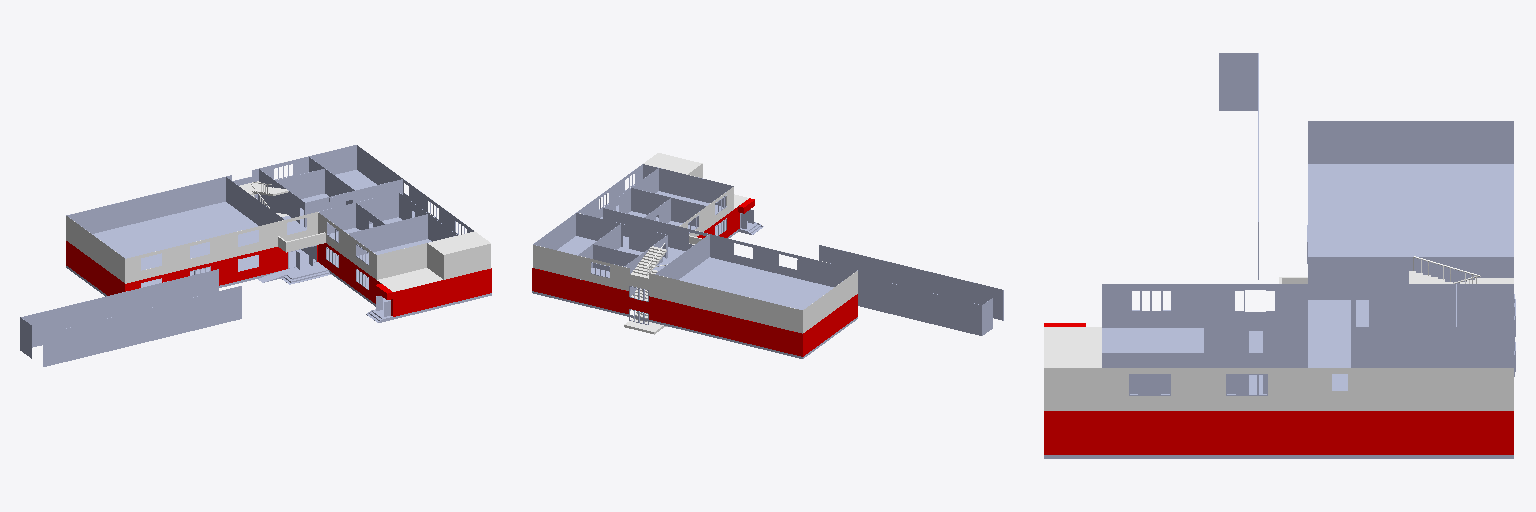
--- Facts derived from the render (not from the file) ---
3 views of the same robot in one strip: view 1: azimuth 30°, elevation 25°; view 2: azimuth 150°, elevation 25°; view 3: azimuth 270°, elevation 25° (orthographic).
Model kdarpa_world with 33 links and 32 joints (32 fixed), rooted at ground_link, posed all joints at 0.
Links seen in each view (by area): view 1: second_in_Link, second_out_Link, ground_link, outdoor_right_wall, outdoor_left_wall, base_Link, ground_in_Link; view 2: second_in_Link, second_out_Link, ground_link, outdoor_left_wall, outdoor_right_wall, base_Link; view 3: second_in_Link, ground_link, second_out_Link, outdoor_left_wall, base_Link, stair_3_link.
Link boxes in pixels (left/top/right/bottom): second_in_Link: left=66, top=145, right=473, bottom=270; second_out_Link: left=66, top=147, right=490, bottom=291; ground_link: left=66, top=241, right=491, bottom=316; outdoor_right_wall: left=43, top=286, right=241, bottom=366; outdoor_left_wall: left=20, top=269, right=218, bottom=358; base_Link: left=66, top=262, right=491, bottom=322; ground_in_Link: left=141, top=194, right=390, bottom=309; second_in_Link: left=533, top=164, right=857, bottom=309; second_out_Link: left=533, top=153, right=857, bottom=333; ground_link: left=532, top=198, right=857, bottom=356; outdoor_left_wall: left=797, top=260, right=992, bottom=335; outdoor_right_wall: left=819, top=245, right=1003, bottom=320; base_Link: left=532, top=222, right=857, bottom=358; second_in_Link: left=1102, top=121, right=1513, bottom=394; ground_link: left=1044, top=323, right=1513, bottom=454; second_out_Link: left=1044, top=277, right=1513, bottom=410; outdoor_left_wall: left=1219, top=53, right=1258, bottom=279; base_Link: left=1044, top=455, right=1513, bottom=458; stair_3_link: left=1409, top=271, right=1513, bottom=283.
Bounding box of the posed robot: 51.66 × 29.51 × 10.05 m (x, y, z).
24 mesh visuals loaded from 33 distinct referenced files (24 binary STL); not drawn: 9 (reference not matched to a file when rendering).

robot.urdf — kdarpa_world:
<?xml version="1.0" encoding="utf-8"?>
<!-- This URDF was automatically created by SolidWorks to URDF Exporter! Originally created by Stephen Brawner ([email redacted]) 
     Commit Version: 1.5.1-0-g916b5db  Build Version: 1.5.7152.31018
     For more information, please see http://wiki.ros.org/sw_urdf_exporter -->
<robot
  name="kdarpa_world">
  <link
    name="ground_link">
    <inertial>
      <origin
        xyz="-13.932 18.075 30.466"
        rpy="0 0 0" />
      <mass
        value="5172.5" />
      <inertia
        ixx="701310"
        ixy="-3221.3"
        ixz="-227660"
        iyy="1331400"
        iyz="-20392"
        izz="638530" />
    </inertial>
    <visual>
      <origin
        xyz="0 0 0"
        rpy="0 0 0" />
      <geometry>
        <mesh
          filename="package://kdarpa_world/meshes/ground_link.STL" />
      </geometry>
      <material
        name="brick">
        <color
          rgba="1 0 0 1" />
        <texture
          filename="package://kdarpa_world/textures/TexturesCom_Wall_BrickRough1_2x2_1K_albedo.tif" />
      </material>
    </visual>
    <collision>
      <origin
        xyz="0 0 0"
        rpy="0 0 0" />
      <geometry>
        <mesh
          filename="package://kdarpa_world/meshes/ground_link.STL" />
      </geometry>
    </collision>
  </link>
  <link
    name="ground_in_Link">
    <inertial>
      <origin
        xyz="21.815 0.60401 -1.9772"
        rpy="0 0 0" />
      <mass
        value="10829" />
      <inertia
        ixx="825040"
        ixy="506.66"
        ixz="-437810"
        iyy="2203700"
        iyz="2738.4"
        izz="1396800" />
    </inertial>
    <visual>
      <origin
        xyz="0 0 0"
        rpy="0 0 0" />
      <geometry>
        <mesh
          filename="package://kdarpa_world/meshes/ground_in_Link.STL" />
      </geometry>
      <material
        name="">
        <color
          rgba="0.79216 0.81961 0.93333 1" />
        <texture
          filename="package://kdarpa_world/textures/TexturesCom_Wall_Plaster3_3x3_1K_albedo.tif" />
      </material>
    </visual>
    <collision>
      <origin
        xyz="0 0 0"
        rpy="0 0 0" />
      <geometry>
        <mesh
          filename="package://kdarpa_world/meshes/ground_in_Link.STL" />
      </geometry>
    </collision>
  </link>
  <joint
    name="ground_joint"
    type="fixed">
    <origin
      xyz="-36.18 -26.871 16.246"
      rpy="1.5708 0 0" />
    <parent
      link="ground_link" />
    <child
      link="ground_in_Link" />
    <axis
      xyz="0 0 0" />
  </joint>
  <link
    name="window_1_Link">
    <inertial>
      <origin
        xyz="7.1054E-15 0 0"
        rpy="0 0 0" />
      <mass
        value="58.464" />
      <inertia
        ixx="16.058"
        ixy="-4.7705E-15"
        ixz="2.2263E-14"
        iyy="35.047"
        iyz="-2.4395E-16"
        izz="51.023" />
    </inertial>
    <visual>
      <origin
        xyz="0 0 0"
        rpy="0 0 0" />
      <geometry>
        <mesh
          filename="package://kdarpa_world/meshes/window_1_Link.STL" />
      </geometry>
      <material
        name="">
        <color
          rgba="0.79216 0.81961 0.93333 1" />
        <texture
          filename="package://kdarpa_world/textures/TexturesCom_Tape0020_1_S.jpg" />
      </material>
    </visual>
    <collision>
      <origin
        xyz="0 0 0"
        rpy="0 0 0" />
      <geometry>
        <mesh
          filename="package://kdarpa_world/meshes/window_1_Link.STL" />
      </geometry>
    </collision>
  </link>
  <joint
    name="window_1_joint"
    type="fixed">
    <origin
      xyz="3.29 1.85 0.04"
      rpy="0 0 0" />
    <parent
      link="ground_in_Link" />
    <child
      link="window_1_Link" />
    <axis
      xyz="0 0 0" />
  </joint>
  <link
    name="window_2_Link">
    <inertial>
      <origin
        xyz="3.5527E-15 0 0"
        rpy="0 0 0" />
      <mass
        value="58.464" />
      <inertia
        ixx="16.058"
        ixy="-4.3368E-16"
        ixz="-3.998E-15"
        iyy="35.047"
        iyz="-4.0658E-16"
        izz="51.023" />
    </inertial>
    <visual>
      <origin
        xyz="0 0 0"
        rpy="0 0 0" />
      <geometry>
        <mesh
          filename="package://kdarpa_world/meshes/window_2_Link.STL" />
      </geometry>
      <material
        name="">
        <color
          rgba="0.79216 0.81961 0.93333 1" />
        <texture
          filename="package://kdarpa_world/textures/TexturesCom_Tape0020_1_S.jpg" />
      </material>
    </visual>
    <collision>
      <origin
        xyz="0 0 0"
        rpy="0 0 0" />
      <geometry>
        <mesh
          filename="package://kdarpa_world/meshes/window_2_Link.STL" />
      </geometry>
    </collision>
  </link>
  <joint
    name="window_2_joint"
    type="fixed">
    <origin
      xyz="9.39 1.85 0.04"
      rpy="0 0 0" />
    <parent
      link="ground_in_Link" />
    <child
      link="window_2_Link" />
    <axis
      xyz="0 0 0" />
  </joint>
  <link
    name="window_3_Link">
    <inertial>
      <origin
        xyz="0 0 0"
        rpy="0 0 0" />
      <mass
        value="58.464" />
      <inertia
        ixx="16.058"
        ixy="-3.1292E-16"
        ixz="-8.5354E-15"
        iyy="35.047"
        iyz="-4.5087E-16"
        izz="51.023" />
    </inertial>
    <visual>
      <origin
        xyz="0 0 0"
        rpy="0 0 0" />
      <geometry>
        <mesh
          filename="package://kdarpa_world/meshes/window_3_Link.STL" />
      </geometry>
      <material
        name="">
        <color
          rgba="0.79216 0.81961 0.93333 1" />
        <texture
          filename="package://kdarpa_world/textures/TexturesCom_Tape0020_1_S.jpg" />
      </material>
    </visual>
    <collision>
      <origin
        xyz="0 0 0"
        rpy="0 0 0" />
      <geometry>
        <mesh
          filename="package://kdarpa_world/meshes/window_3_Link.STL" />
      </geometry>
    </collision>
  </link>
  <joint
    name="window_3_joint"
    type="fixed">
    <origin
      xyz="15.49 1.85 0.04"
      rpy="0 0 0" />
    <parent
      link="ground_in_Link" />
    <child
      link="window_3_Link" />
    <axis
      xyz="0 0 0" />
  </joint>
  <link
    name="indoor_fence_Link">
    <inertial>
      <origin
        xyz="0.0058815 -1.8178E-05 -4.9543E-06"
        rpy="0 0 0" />
      <mass
        value="23.724" />
      <inertia
        ixx="4.7495"
        ixy="-0.00032267"
        ixz="5.6344E-05"
        iyy="17.883"
        iyz="-2.375E-06"
        izz="22.626" />
    </inertial>
    <visual>
      <origin
        xyz="0 0 0"
        rpy="0 0 0" />
      <geometry>
        <mesh
          filename="package://kdarpa_world/meshes/indoor_fence_Link.STL" />
      </geometry>
      <material
        name="">
        <color
          rgba="0.79216 0.81961 0.93333 1" />
        <texture
          filename="package://kdarpa_world/textures/naver_com_20110517_210859.jpg" />
      </material>
    </visual>
    <collision>
      <origin
        xyz="0 0 0"
        rpy="0 0 0" />
      <geometry>
        <mesh
          filename="package://kdarpa_world/meshes/indoor_fence_Link.STL" />
      </geometry>
    </collision>
  </link>
  <joint
    name="indoor_fence_joint"
    type="fixed">
    <origin
      xyz="21.32 0.759999999999998 -3.61"
      rpy="0 0 0" />
    <parent
      link="ground_in_Link" />
    <child
      link="indoor_fence_Link" />
    <axis
      xyz="0 0 0" />
  </joint>
  <link
    name="window_4_Link">
    <inertial>
      <origin
        xyz="3.5527E-15 -3.5527E-15 -1.7764E-15"
        rpy="0 0 0" />
      <mass
        value="58.464" />
      <inertia
        ixx="16.058"
        ixy="3.9031E-15"
        ixz="-2.8393E-15"
        iyy="35.047"
        iyz="-2.0329E-17"
        izz="51.023" />
    </inertial>
    <visual>
      <origin
        xyz="0 0 0"
        rpy="0 0 0" />
      <geometry>
        <mesh
          filename="package://kdarpa_world/meshes/window_4_Link.STL" />
      </geometry>
      <material
        name="">
        <color
          rgba="0.79216 0.81961 0.93333 1" />
        <texture
          filename="package://kdarpa_world/textures/TexturesCom_Tape0020_1_S.jpg" />
      </material>
    </visual>
    <collision>
      <origin
        xyz="0 0 0"
        rpy="0 0 0" />
      <geometry>
        <mesh
          filename="package://kdarpa_world/meshes/window_4_Link.STL" />
      </geometry>
    </collision>
  </link>
  <joint
    name="window_4_joint"
    type="fixed">
    <origin
      xyz="24.16 1.85 3.31000000000001"
      rpy="0 -1.5707963267949 0" />
    <parent
      link="ground_in_Link" />
    <child
      link="window_4_Link" />
    <axis
      xyz="0 0 0" />
  </joint>
  <link
    name="window_5_Link">
    <inertial>
      <origin
        xyz="0 -3.5527E-15 0"
        rpy="0 0 0" />
      <mass
        value="58.464" />
      <inertia
        ixx="16.058"
        ixy="4.3368E-15"
        ixz="-1.8702E-14"
        iyy="35.047"
        iyz="-2.9816E-16"
        izz="51.023" />
    </inertial>
    <visual>
      <origin
        xyz="0 0 0"
        rpy="0 0 0" />
      <geometry>
        <mesh
          filename="package://kdarpa_world/meshes/window_5_Link.STL" />
      </geometry>
      <material
        name="">
        <color
          rgba="0.79216 0.81961 0.93333 1" />
        <texture
          filename="package://kdarpa_world/textures/TexturesCom_Tape0020_1_S.jpg" />
      </material>
    </visual>
    <collision>
      <origin
        xyz="0 0 0"
        rpy="0 0 0" />
      <geometry>
        <mesh
          filename="package://kdarpa_world/meshes/window_5_Link.STL" />
      </geometry>
    </collision>
  </link>
  <joint
    name="window_5_joint"
    type="fixed">
    <origin
      xyz="24.16 1.85000000000004 9.80999999999999"
      rpy="0 -1.5707963267949 0" />
    <parent
      link="ground_in_Link" />
    <child
      link="window_5_Link" />
    <axis
      xyz="0 0 0" />
  </joint>
  <link
    name="window_6_Link">
    <inertial>
      <origin
        xyz="-1.7764E-15 -3.5527E-15 -1.7764E-15"
        rpy="0 0 0" />
      <mass
        value="58.464" />
      <inertia
        ixx="16.058"
        ixy="5.2871E-15"
        ixz="-5.3939E-15"
        iyy="35.047"
        iyz="2.6587E-16"
        izz="51.023" />
    </inertial>
    <visual>
      <origin
        xyz="0 0 0"
        rpy="0 0 0" />
      <geometry>
        <mesh
          filename="package://kdarpa_world/meshes/window_6_Link.STL" />
      </geometry>
      <material
        name="">
        <color
          rgba="0.79216 0.81961 0.93333 1" />
        <texture
          filename="package://kdarpa_world/textures/TexturesCom_Tape0020_1_S.jpg" />
      </material>
    </visual>
    <collision>
      <origin
        xyz="0 0 0"
        rpy="0 0 0" />
      <geometry>
        <mesh
          filename="package://kdarpa_world/meshes/window_6_Link.STL" />
      </geometry>
    </collision>
  </link>
  <joint
    name="window_6_joint"
    type="fixed">
    <origin
      xyz="22.13 0 -12.943"
      rpy="3.14159265358979 0 3.14159265358979" />
    <parent
      link="ground_in_Link" />
    <child
      link="window_6_Link" />
    <axis
      xyz="0 0 0" />
  </joint>
  <link
    name="stair_1_link">
    <inertial>
      <origin
        xyz="22.143 1.428 -9.7626"
        rpy="0 0 0" />
      <mass
        value="7454.1" />
      <inertia
        ixx="30041"
        ixy="-3763.4"
        ixz="-248.04"
        iyy="37239"
        iyz="-975.09"
        izz="14271" />
    </inertial>
    <visual>
      <origin
        xyz="0 0 0"
        rpy="0 0 0" />
      <geometry>
        <mesh
          filename="package://kdarpa_world/meshes/stair_1_link.STL" />
      </geometry>
      <material
        name="">
        <color
          rgba="1 1 1 1" />
        <texture
          filename="package://kdarpa_world/textures/Inner.jpg" />
      </material>
    </visual>
    <collision>
      <origin
        xyz="0 0 0"
        rpy="0 0 0" />
      <geometry>
        <mesh
          filename="package://kdarpa_world/meshes/stair_1_link.STL" />
      </geometry>
    </collision>
  </link>
  <joint
    name="stair_1_joint"
    type="fixed">
    <origin
      xyz="0.00999999999999801 -2.98999999999999 0"
      rpy="0 0 0" />
    <parent
      link="ground_in_Link" />
    <child
      link="stair_1_link" />
    <axis
      xyz="0 0 0" />
  </joint>
  <link
    name="handle_1_Link">
    <inertial>
      <origin
        xyz="20.185 2.3951 -8.662"
        rpy="0 0 0" />
      <mass
        value="109.15" />
      <inertia
        ixx="265.01"
        ixy="-9.9549"
        ixz="1.3613"
        iyy="180.2"
        iyz="9.7341"
        izz="88.343" />
    </inertial>
    <visual>
      <origin
        xyz="0 0 0"
        rpy="0 0 0" />
      <geometry>
        <mesh
          filename="package://kdarpa_world/meshes/handle_1_Link.STL" />
      </geometry>
      <material
        name="">
        <color
          rgba="1 1 1 1" />
        <texture
          filename="package://kdarpa_world/textures/TexturesCom_Tape0020_1_S.jpg" />
      </material>
    </visual>
    <collision>
      <origin
        xyz="0 0 0"
        rpy="0 0 0" />
      <geometry>
        <mesh
          filename="package://kdarpa_world/meshes/handle_1_Link.STL" />
      </geometry>
    </collision>
  </link>
  <joint
    name="handle_1_joint"
    type="fixed">
    <origin
      xyz="1.94 0 0.000137515459705639"
      rpy="0 0 0" />
    <parent
      link="stair_1_link" />
    <child
      link="handle_1_Link" />
    <axis
      xyz="0 0 0" />
  </joint>
  <link
    name="base_Link">
    <inertial>
      <origin
        xyz="21.914 0.14966 -1.538"
        rpy="0 0 0" />
      <mass
        value="200210" />
      <inertia
        ixx="12465000"
        ixy="-117.22"
        ixz="-7652700"
        iyy="35308000"
        iyz="354.57"
        izz="22847000" />
    </inertial>
    <visual>
      <origin
        xyz="0 0 0"
        rpy="0 0 0" />
      <geometry>
        <mesh
          filename="package://kdarpa_world/meshes/base_Link.STL" />
      </geometry>
      <material
        name="">
        <color
          rgba="0.79216 0.81961 0.93333 1" />
        <texture
          filename="package://kdarpa_world/textures/outer.jpg" />
      </material>
    </visual>
    <collision>
      <origin
        xyz="0 0 0"
        rpy="0 0 0" />
      <geometry>
        <mesh
          filename="package://kdarpa_world/meshes/base_Link.STL" />
      </geometry>
    </collision>
  </link>
  <joint
    name="base_joint"
    type="fixed">
    <origin
      xyz="-36.18 -26.871 15.946"
      rpy="1.5708 0 0" />
    <parent
      link="ground_link" />
    <child
      link="base_Link" />
    <axis
      xyz="0 0 0" />
  </joint>
  <link
    name="outdoor_left_wall">
    <inertial>
      <origin
        xyz="11.359 2 -4.891"
        rpy="0 0 0" />
      <mass
        value="1100.4" />
      <inertia
        ixx="1662.5"
        ixy="-6.6145E-11"
        ixz="1426.2"
        iyy="66546"
        iyz="1.0102E-11"
        izz="67818" />
    </inertial>
    <visual>
      <origin
        xyz="0 0 0"
        rpy="0 0 0" />
      <geometry>
        <mesh
          filename="package://kdarpa_world/meshes/outdoor_left_wall.STL" />
      </geometry>
      <material
        name="">
        <color
          rgba="0.79216 0.81961 0.93333 1" />
        <texture
          filename="package://kdarpa_world/textures/outer.jpg" />
      </material>
    </visual>
    <collision>
      <origin
        xyz="0 0 0"
        rpy="0 0 0" />
      <geometry>
        <mesh
          filename="package://kdarpa_world/meshes/outdoor_left_wall.STL" />
      </geometry>
    </collision>
  </link>
  <joint
    name="outdoor_left_wall_joint"
    type="fixed">
    <origin
      xyz="-51.18 -34.981 15.946"
      rpy="1.5708 0 0" />
    <parent
      link="ground_link" />
    <child
      link="outdoor_left_wall" />
    <axis
      xyz="0 0 0" />
  </joint>
  <link
    name="outdoor_right_wall">
    <inertial>
      <origin
        xyz="12.49 2 -0.015"
        rpy="0 0 0" />
      <mass
        value="1000" />
      <inertia
        ixx="1333.3"
        ixy="0"
        ixz="1.4456E-15"
        iyy="52083"
        iyz="1.7223E-29"
        izz="53417" />
    </inertial>
    <visual>
      <origin
        xyz="0 0 0"
        rpy="0 0 0" />
      <geometry>
        <mesh
          filename="package://kdarpa_world/meshes/outdoor_right_wall.STL" />
      </geometry>
      <material
        name="">
        <color
          rgba="0.79216 0.81961 0.93333 1" />
        <texture
          filename="package://kdarpa_world/textures/outer.jpg" />
      </material>
    </visual>
    <collision>
      <origin
        xyz="0 0 0"
        rpy="0 0 0" />
      <geometry>
        <mesh
          filename="package://kdarpa_world/meshes/outdoor_right_wall.STL" />
      </geometry>
    </collision>
  </link>
  <joint
    name="outdoor_right_wall_joint"
    type="fixed">
    <origin
      xyz="-51.18 -34.981 15.946"
      rpy="1.5708 0 0" />
    <parent
      link="ground_link" />
    <child
      link="outdoor_right_wall" />
    <axis
      xyz="0 0 0" />
  </joint>
  <link
    name="front_door_link">
    <inertial>
      <origin
        xyz="1.8 1.2792 0.20339"
        rpy="0 0 0" />
      <mass
        value="69.384" />
      <inertia
        ixx="48.209"
        ixy="-1.8692E-13"
        ixz="-9.7271E-14"
        iyy="88.595"
        iyz="3.9407"
        izz="126.72" />
    </inertial>
    <visual>
      <origin
        xyz="0 0 0"
        rpy="0 0 0" />
      <geometry>
        <mesh
          filename="package://kdarpa_world/meshes/front_door_link.STL" />
      </geometry>
      <material
        name="">
        <color
          rgba="0.79216 0.81961 0.93333 1" />
        <texture
          filename="package://kdarpa_world/textures/naver_com_20110517_210859.jpg" />
      </material>
    </visual>
    <collision>
      <origin
        xyz="0 0 0"
        rpy="0 0 0" />
      <geometry>
        <mesh
          filename="package://kdarpa_world/meshes/front_door_link.STL" />
      </geometry>
    </collision>
  </link>
  <joint
    name="front_door_joint"
    type="fixed">
    <origin
      xyz="-15.69 -26.891 16.256"
      rpy="1.5708 0 0" />
    <parent
      link="ground_link" />
    <child
      link="front_door_link" />
    <axis
      xyz="0 0 0" />
  </joint>
  <link
    name="side_door_link">
    <inertial>
      <origin
        xyz="0.9 1.0334 -0.35859"
        rpy="0 0 0" />
      <mass
        value="115.32" />
      <inertia
        ixx="53.289"
        ixy="5.4685E-13"
        ixz="-2.7142E-13"
        iyy="88.705"
        iyz="-5.1016"
        izz="123.12" />
    </inertial>
    <visual>
      <origin
        xyz="0 0 0"
        rpy="0 0 0" />
      <geometry>
        <mesh
          filename="package://kdarpa_world/meshes/side_door_link.STL" />
      </geometry>
      <material
        name="">
        <color
          rgba="0.79216 0.81961 0.93333 1" />
        <texture
          filename="package://kdarpa_world/textures/naver_com_20110517_210859.jpg" />
      </material>
    </visual>
    <collision>
      <origin
        xyz="0 0 0"
        rpy="0 0 0" />
      <geometry>
        <mesh
          filename="package://kdarpa_world/meshes/side_door_link.STL" />
      </geometry>
    </collision>
  </link>
  <joint
    name="side_door_joint"
    type="fixed">
    <origin
      xyz="-12 -42.988 16.256"
      rpy="1.5708 0 1.5708" />
    <parent
      link="ground_link" />
    <child
      link="side_door_link" />
    <axis
      xyz="0 0 0" />
  </joint>
  <link
    name="second_out_Link">
    <inertial>
      <origin
        xyz="0 0 0"
        rpy="0 0 0" />
      <mass
        value="0" />
      <inertia
        ixx="0"
        ixy="0"
        ixz="0"
        iyy="0"
        iyz="0"
        izz="0" />
    </inertial>
    <visual>
      <origin
        xyz="0 0 0"
        rpy="0 0 0" />
      <geometry>
        <mesh
          filename="package://kdarpa_world/meshes/second_out_Link.STL" />
      </geometry>
      <material
        name="">
        <color
          rgba="1 1 1 1" />
        <texture
          filename="package://kdarpa_world/textures/TexturesCom_Wall_BrickRough1_2x2_1K_albedo.tif" />
      </material>
    </visual>
    <collision>
      <origin
        xyz="0 0 0"
        rpy="0 0 0" />
      <geometry>
        <mesh
          filename="package://kdarpa_world/meshes/second_out_Link.STL" />
      </geometry>
    </collision>
  </link>
  <joint
    name="second_out_joint"
    type="fixed">
    <origin
      xyz="-36.1795802683966 -26.8811318137481 19.2456664197819"
      rpy="1.5707963267949 0 0" />
    <parent
      link="ground_link" />
    <child
      link="second_out_Link" />
    <axis
      xyz="0 0 0" />
  </joint>
  <link
    name="second_in_Link">
    <inertial>
      <origin
        xyz="23.789 0.87603 -2.3459"
        rpy="0 0 0" />
      <mass
        value="14359" />
      <inertia
        ixx="783000"
        ixy="-23710"
        ixz="-427660"
        iyy="2360100"
        iyz="-5059.5"
        izz="1605700" />
    </inertial>
    <visual>
      <origin
        xyz="0 0 0"
        rpy="0 0 0" />
      <geometry>
        <mesh
          filename="package://kdarpa_world/meshes/second_in_Link.STL" />
      </geometry>
      <material
        name="">
        <color
          rgba="0.79216 0.81961 0.93333 1" />
        <texture
          filename="package://kdarpa_world/textures/TexturesCom_Wall_Plaster3_3x3_1K_albedo.tif" />
      </material>
    </visual>
    <collision>
      <origin
        xyz="0 0 0"
        rpy="0 0 0" />
      <geometry>
        <mesh
          filename="package://kdarpa_world/meshes/second_in_Link.STL" />
      </geometry>
    </collision>
  </link>
  <joint
    name="second_in_joint"
    type="fixed">
    <origin
      xyz="0 0 0"
      rpy="0 0 0" />
    <parent
      link="second_out_Link" />
    <child
      link="second_in_Link" />
    <axis
      xyz="0 0 0" />
  </joint>
  <link
    name="window_7_Link">
    <inertial>
      <origin
        xyz="7.1054E-15 0 0"
        rpy="0 0 0" />
      <mass
        value="58.464" />
      <inertia
        ixx="16.058"
        ixy="-4.12E-15"
        ixz="2.225E-14"
        iyy="35.047"
        iyz="-2.1006E-16"
        izz="51.023" />
    </inertial>
    <visual>
      <origin
        xyz="0 0 0"
        rpy="0 0 0" />
      <geometry>
        <mesh
          filename="package://kdarpa_world/meshes/window_7_Link.STL" />
      </geometry>
      <material
        name="">
        <color
          rgba="0.79216 0.81961 0.93333 1" />
        <texture
          filename="package://kdarpa_world/textures/TexturesCom_Tape0020_1_S.jpg" />
      </material>
    </visual>
    <collision>
      <origin
        xyz="0 0 0"
        rpy="0 0 0" />
      <geometry>
        <mesh
          filename="package://kdarpa_world/meshes/window_7_Link.STL" />
      </geometry>
    </collision>
  </link>
  <joint
    name="window_7_joint"
    type="fixed">
    <origin
      xyz="3.3 1.85 0.0400000000000027"
      rpy="0 0 0" />
    <parent
      link="second_in_Link" />
    <child
      link="window_7_Link" />
    <axis
      xyz="0 0 0" />
  </joint>
  <link
    name="window_8_Link">
    <inertial>
      <origin
        xyz="0 0 0"
        rpy="0 0 0" />
      <mass
        value="58.464" />
      <inertia
        ixx="16.058"
        ixy="-4.3358E-16"
        ixz="-8.5516E-15"
        iyy="35.047"
        iyz="-4.6756E-16"
        izz="51.023" />
    </inertial>
    <visual>
      <origin
        xyz="0 0 0"
        rpy="0 0 0" />
      <geometry>
        <mesh
          filename="package://kdarpa_world/meshes/window_8_Link.STL" />
      </geometry>
      <material
        name="">
        <color
          rgba="0.79216 0.81961 0.93333 1" />
        <texture
          filename="package://kdarpa_world/textures/TexturesCom_Tape0020_1_S.jpg" />
      </material>
    </visual>
    <collision>
      <origin
        xyz="0 0 0"
        rpy="0 0 0" />
      <geometry>
        <mesh
          filename="package://kdarpa_world/meshes/window_8_Link.STL" />
      </geometry>
    </collision>
  </link>
  <joint
    name="window_8_joint"
    type="fixed">
    <origin
      xyz="9.40000000000001 1.85 0.0400000000000063"
      rpy="0 0 0" />
    <parent
      link="second_in_Link" />
    <child
      link="window_8_Link" />
    <axis
      xyz="0 0 0" />
  </joint>
  <link
    name="window_9_Link">
    <inertial>
      <origin
        xyz="3.5527E-15 0 0"
        rpy="0 0 0" />
      <mass
        value="58.464" />
      <inertia
        ixx="16.058"
        ixy="-6.5052E-16"
        ixz="-4.0387E-15"
        iyy="35.047"
        iyz="-4.0658E-16"
        izz="51.023" />
    </inertial>
    <visual>
      <origin
        xyz="0 0 0"
        rpy="0 0 0" />
      <geometry>
        <mesh
          filename="package://kdarpa_world/meshes/window_9_Link.STL" />
      </geometry>
      <material
        name="">
        <color
          rgba="0.79216 0.81961 0.93333 1" />
        <texture
          filename="package://kdarpa_world/textures/TexturesCom_Tape0020_1_S.jpg" />
      </material>
    </visual>
    <collision>
      <origin
        xyz="0 0 0"
        rpy="0 0 0" />
      <geometry>
        <mesh
          filename="package://kdarpa_world/meshes/window_9_Link.STL" />
      </geometry>
    </collision>
  </link>
  <joint
    name="window_9_joint"
    type="fixed">
    <origin
      xyz="15.5 1.85 0.04"
      rpy="0 0 0" />
    <parent
      link="second_in_Link" />
    <child
      link="window_9_Link" />
    <axis
      xyz="0 0 0" />
  </joint>
  <link
    name="window_10_link">
    <inertial>
      <origin
        xyz="3.5527E-15 3.5527E-15 3.5527E-15"
        rpy="0 0 0" />
      <mass
        value="58.464" />
      <inertia
        ixx="16.058"
        ixy="-2.3551E-14"
        ixz="-2.8536E-15"
        iyy="35.047"
        iyz="-9.0991E-16"
        izz="51.023" />
    </inertial>
    <visual>
      <origin
        xyz="0 0 0"
        rpy="0 0 0" />
      <geometry>
        <mesh
          filename="package://kdarpa_world/meshes/window_10_link.STL" />
      </geometry>
      <material
        name="">
        <color
          rgba="0.79216 0.81961 0.93333 1" />
        <texture
          filename="package://kdarpa_world/textures/TexturesCom_Tape0020_1_S.jpg" />
      </material>
    </visual>
    <collision>
      <origin
        xyz="0 0 0"
        rpy="0 0 0" />
      <geometry>
        <mesh
          filename="package://kdarpa_world/meshes/window_10_link.STL" />
      </geometry>
    </collision>
  </link>
  <joint
    name="window_10_joint"
    type="fixed">
    <origin
      xyz="21.59 1.85 0.0499999999999972"
      rpy="0 0 0" />
    <parent
      link="second_in_Link" />
    <child
      link="window_10_link" />
    <axis
      xyz="0 0 0" />
  </joint>
  <link
    name="window_11_Link">
    <inertial>
      <origin
        xyz="-7.1054E-15 3.5527E-15 0"
        rpy="0 0 0" />
      <mass
        value="58.464" />
      <inertia
        ixx="16.058"
        ixy="1.4311E-14"
        ixz="-6.93E-15"
        iyy="35.047"
        iyz="-4.4723E-16"
        izz="51.023" />
    </inertial>
    <visual>
      <origin
        xyz="0 0 0"
        rpy="0 0 0" />
      <geometry>
        <mesh
          filename="package://kdarpa_world/meshes/window_11_Link.STL" />
      </geometry>
      <material
        name="">
        <color
          rgba="0.79216 0.81961 0.93333 1" />
        <texture
          filename="package://kdarpa_world/textures/TexturesCom_Tape0020_1_S.jpg" />
      </material>
    </visual>
    <collision>
      <origin
        xyz="0 0 0"
        rpy="0 0 0" />
      <geometry>
        <mesh
          filename="package://kdarpa_world/meshes/window_11_Link.STL" />
      </geometry>
    </collision>
  </link>
  <joint
    name="window_11_joint"
    type="fixed">
    <origin
      xyz="24.15 1.85 9.81000000000001"
      rpy="0 -1.5707963267949 0" />
    <parent
      link="second_in_Link" />
    <child
      link="window_11_Link" />
    <axis
      xyz="0 0 0" />
  </joint>
  <link
    name="window_12_Link">
    <inertial>
      <origin
        xyz="0 3.5527E-15 0"
        rpy="0 0 0" />
      <mass
        value="58.464" />
      <inertia
        ixx="16.058"
        ixy="-2.9057E-14"
        ixz="-3.8438E-15"
        iyy="35.047"
        iyz="-3.7239E-16"
        izz="51.023" />
    </inertial>
    <visual>
      <origin
        xyz="0 0 0"
        rpy="0 0 0" />
      <geometry>
        <mesh
          filename="package://kdarpa_world/meshes/window_12_Link.STL" />
      </geometry>
      <material
        name="">
        <color
          rgba="0.79216 0.81961 0.93333 1" />
        <texture
          filename="package://kdarpa_world/textures/TexturesCom_Tape0020_1_S.jpg" />
      </material>
    </visual>
    <collision>
      <origin
        xyz="0 0 0"
        rpy="0 0 0" />
      <geometry>
        <mesh
          filename="package://kdarpa_world/meshes/window_12_Link.STL" />
      </geometry>
    </collision>
  </link>
  <joint
    name="window_12_joint"
    type="fixed">
    <origin
      xyz="22.13 0 -12.953"
      rpy="3.14159265358979 0 3.14159265358979" />
    <parent
      link="second_in_Link" />
    <child
      link="window_12_Link" />
    <axis
      xyz="0 0 0" />
  </joint>
  <link
    name="window_13_Link">
    <inertial>
      <origin
        xyz="0 3.5527E-15 0"
        rpy="0 0 0" />
      <mass
        value="58.464" />
      <inertia
        ixx="16.058"
        ixy="-2.9044E-14"
        ixz="-3.8682E-15"
        iyy="35.047"
        iyz="-3.7046E-16"
        izz="51.023" />
    </inertial>
    <visual>
      <origin
        xyz="0 0 0"
        rpy="0 0 0" />
      <geometry>
        <mesh
          filename="package://kdarpa_world/meshes/window_13_Link.STL" />
      </geometry>
      <material
        name="">
        <color
          rgba="0.79216 0.81961 0.93333 1" />
        <texture
          filename="package://kdarpa_world/textures/TexturesCom_Tape0020_1_S.jpg" />
      </material>
    </visual>
    <collision>
      <origin
        xyz="0 0 0"
        rpy="0 0 0" />
      <geometry>
        <mesh
          filename="package://kdarpa_world/meshes/window_13_Link.STL" />
      </geometry>
    </collision>
  </link>
  <joint
    name="window_13_joint"
    type="fixed">
    <origin
      xyz="22.13 3 -12.953"
      rpy="3.14159265358979 0 3.14159265358979" />
    <parent
      link="second_in_Link" />
    <child
      link="window_13_Link" />
    <axis
      xyz="0 0 0" />
  </joint>
  <link
    name="window_14_Link">
    <inertial>
      <origin
        xyz="-1.7764E-15 0 1.7764E-15"
        rpy="0 0 0" />
      <mass
        value="58.464" />
      <inertia
        ixx="16.058"
        ixy="3.773E-14"
        ixz="-4.9873E-15"
        iyy="35.047"
        iyz="-1.0164E-16"
        izz="51.023" />
    </inertial>
    <visual>
      <origin
        xyz="0 0 0"
        rpy="0 0 0" />
      <geometry>
        <mesh
          filename="package://kdarpa_world/meshes/window_14_Link.STL" />
      </geometry>
      <material
        name="">
        <color
          rgba="0.79216 0.81961 0.93333 1" />
        <texture
          filename="package://kdarpa_world/textures/TexturesCom_Tape0020_1_S.jpg" />
      </material>
    </visual>
    <collision>
      <origin
        xyz="0 0 0"
        rpy="0 0 0" />
      <geometry>
        <mesh
          filename="package://kdarpa_world/meshes/window_14_Link.STL" />
      </geometry>
    </collision>
  </link>
  <joint
    name="window_14_joint"
    type="fixed">
    <origin
      xyz="27.35 1.85 -12.953"
      rpy="3.14159265358979 0 3.14159265358979" />
    <parent
      link="second_in_Link" />
    <child
      link="window_14_Link" />
    <axis
      xyz="0 0 0" />
  </joint>
  <link
    name="window_15_Link">
    <inertial>
      <origin
        xyz="0 0 -1.6653E-16"
        rpy="0 0 0" />
      <mass
        value="58.464" />
      <inertia
        ixx="16.058"
        ixy="-6.0614E-14"
        ixz="-2.9816E-15"
        iyy="35.047"
        iyz="1.0159E-15"
        izz="51.023" />
    </inertial>
    <visual>
      <origin
        xyz="0 0 0"
        rpy="0 0 0" />
      <geometry>
        <mesh
          filename="package://kdarpa_world/meshes/window_15_Link.STL" />
      </geometry>
      <material
        name="">
        <color
          rgba="0.79216 0.81961 0.93333 1" />
        <texture
          filename="package://kdarpa_world/textures/TexturesCom_Tape0020_1_S.jpg" />
      </material>
    </visual>
    <collision>
      <origin
        xyz="0 0 0"
        rpy="0 0 0" />
      <geometry>
        <mesh
          filename="package://kdarpa_world/meshes/window_15_Link.STL" />
      </geometry>
    </collision>
  </link>
  <joint
    name="window_15_joint"
    type="fixed">
    <origin
      xyz="36.598 1.84999999999996 3.80699999999999"
      rpy="0 1.5707963267949 0" />
    <parent
      link="second_in_Link" />
    <child
      link="window_15_Link" />
    <axis
      xyz="0 0 0" />
  </joint>
  <link
    name="window_16_Link">
    <inertial>
      <origin
        xyz="-1.4211E-14 0 1.6653E-16"
        rpy="0 0 0" />
      <mass
        value="58.464" />
      <inertia
        ixx="16.058"
        ixy="4.819E-14"
        ixz="5.3295E-15"
        iyy="35.047"
        iyz="4.9896E-16"
        izz="51.023" />
    </inertial>
    <visual>
      <origin
        xyz="0 0 0"
        rpy="0 0 0" />
      <geometry>
        <mesh
          filename="package://kdarpa_world/meshes/window_16_Link.STL" />
      </geometry>
      <material
        name="">
        <color
          rgba="0.79216 0.81961 0.93333 1" />
        <texture
          filename="package://kdarpa_world/textures/TexturesCom_Tape0020_1_S.jpg" />
      </material>
    </visual>
    <collision>
      <origin
        xyz="0 0 0"
        rpy="0 0 0" />
      <geometry>
        <mesh
          filename="package://kdarpa_world/meshes/window_16_Link.STL" />
      </geometry>
    </collision>
  </link>
  <joint
    name="window_16_joint"
    type="fixed">
    <origin
      xyz="36.598 1.85000000000001 9.907"
      rpy="0 1.5707963267949 0" />
    <parent
      link="second_in_Link" />
    <child
      link="window_16_Link" />
    <axis
      xyz="0 0 0" />
  </joint>
  <link
    name="open_window_Link">
    <inertial>
      <origin
        xyz="-7.1054E-15 -3.5527E-15 1.7764E-15"
        rpy="0 0 0" />
      <mass
        value="24.36" />
      <inertia
        ixx="6.679"
        ixy="1.1991E-14"
        ixz="3.7586E-17"
        iyy="1.7258"
        iyz="1.604E-17"
        izz="8.3947" />
    </inertial>
    <visual>
      <origin
        xyz="0 0 0"
        rpy="0 0 0" />
      <geometry>
        <mesh
          filename="package://kdarpa_world/meshes/open_window_Link.STL" />
      </geometry>
      <material
        name="">
        <color
          rgba="0.79216 0.81961 0.93333 1" />
        <texture
          filename="package://kdarpa_world/textures/TexturesCom_Tape0020_1_S.jpg" />
      </material>
    </visual>
    <collision>
      <origin
        xyz="0 0 0"
        rpy="0 0 0" />
      <geometry>
        <mesh
          filename="package://kdarpa_world/meshes/open_window_Link.STL" />
      </geometry>
    </collision>
  </link>
  <joint
    name="open_window_joint"
    type="fixed">
    <origin
      xyz="24.175 1.84999999999999 3.31"
      rpy="0 -1.5707963267949 0" />
    <parent
      link="second_in_Link" />
    <child
      link="open_window_Link" />
    <axis
      xyz="0 0 0" />
  </joint>
  <link
    name="stair_2_Link">
    <inertial>
      <origin
        xyz="22.153 1.438 -9.7526"
        rpy="0 0 0" />
      <mass
        value="7454.1" />
      <inertia
        ixx="30041"
        ixy="-3763.4"
        ixz="-248.04"
        iyy="37239"
        iyz="-975.09"
        izz="14271" />
    </inertial>
    <visual>
      <origin
        xyz="0 0 0"
        rpy="0 0 0" />
      <geometry>
        <mesh
          filename="package://kdarpa_world/meshes/stair_2_Link.STL" />
      </geometry>
      <material
        name="">
        <color
          rgba="1 1 1 1" />
        <texture
          filename="package://kdarpa_world/textures/Inner.jpg" />
      </material>
    </visual>
    <collision>
      <origin
        xyz="0 0 0"
        rpy="0 0 0" />
      <geometry>
        <mesh
          filename="package://kdarpa_world/meshes/stair_2_Link.STL" />
      </geometry>
    </collision>
  </link>
  <joint
    name="stair_2_joint"
    type="fixed">
    <origin
      xyz="0 -3 -0.0100000000000016"
      rpy="0 0 0" />
    <parent
      link="second_in_Link" />
    <child
      link="stair_2_Link" />
    <axis
      xyz="0 0 0" />
  </joint>
  <link
    name="handle_2_Link">
    <inertial>
      <origin
        xyz="20.185 2.3951 -8.662"
        rpy="0 0 0" />
      <mass
        value="109.15" />
      <inertia
        ixx="265.01"
        ixy="-9.9549"
        ixz="1.3613"
        iyy="180.2"
        iyz="9.7341"
        izz="88.343" />
    </inertial>
    <visual>
      <origin
        xyz="0 0 0"
        rpy="0 0 0" />
      <geometry>
        <mesh
          filename="package://kdarpa_world/meshes/handle_2_Link.STL" />
      </geometry>
      <material
        name="">
        <color
          rgba="1 1 1 1" />
        <texture
          filename="package://kdarpa_world/textures/TexturesCom_Tape0020_1_S.jpg" />
      </material>
    </visual>
    <collision>
      <origin
        xyz="0 0 0"
        rpy="0 0 0" />
      <geometry>
        <mesh
          filename="package://kdarpa_world/meshes/handle_2_Link.STL" />
      </geometry>
    </collision>
  </link>
  <joint
    name="handle_2_joint"
    type="fixed">
    <origin
      xyz="1.95 0.0100000000000087 0.0101375154597036"
      rpy="0 0 0" />
    <parent
      link="stair_2_Link" />
    <child
      link="handle_2_Link" />
    <axis
      xyz="0 0 0" />
  </joint>
  <link
    name="stair_3_link">
    <inertial>
      <origin
        xyz="22.153 1.438 -9.7626"
        rpy="0 0 0" />
      <mass
        value="7454.1" />
      <inertia
        ixx="30041"
        ixy="-3763.4"
        ixz="-248.04"
        iyy="37239"
        iyz="-975.09"
        izz="14271" />
    </inertial>
    <visual>
      <origin
        xyz="0 0 0"
        rpy="0 0 0" />
      <geometry>
        <mesh
          filename="package://KDARPA/meshes/stair_3_link.STL" />
      </geometry>
      <material
        name="">
        <color
          rgba="1 1 1 1" />
        <texture
          filename="package://KDARPA/textures/Inner.jpg" />
      </material>
    </visual>
    <collision>
      <origin
        xyz="0 0 0"
        rpy="0 0 0" />
      <geometry>
        <mesh
          filename="package://KDARPA/meshes/stair_3_link.STL" />
      </geometry>
    </collision>
  </link>
  <joint
    name="stair_3_joint"
    type="fixed">
    <origin
      xyz="0 0 0"
      rpy="0 0 0" />
    <parent
      link="second_in_Link" />
    <child
      link="stair_3_link" />
    <axis
      xyz="0 0 0" />
  </joint>
  <link
    name="handle_3_Link">
    <inertial>
      <origin
        xyz="20.185 2.3951 -8.662"
        rpy="0 0 0" />
      <mass
        value="109.15" />
      <inertia
        ixx="265.01"
        ixy="-9.9549"
        ixz="1.3613"
        iyy="180.2"
        iyz="9.7341"
        izz="88.343" />
    </inertial>
    <visual>
      <origin
        xyz="0 0 0"
        rpy="0 0 0" />
      <geometry>
        <mesh
          filename="package://kdarpa_world/meshes/handle_3_Link.STL" />
      </geometry>
      <material
        name="">
        <color
          rgba="1 1 1 1" />
        <texture
          filename="package://kdarpa_world/textures/TexturesCom_Tape0020_1_S.jpg" />
      </material>
    </visual>
    <collision>
      <origin
        xyz="0 0 0"
        rpy="0 0 0" />
      <geometry>
        <mesh
          filename="package://kdarpa_world/meshes/handle_3_Link.STL" />
      </geometry>
    </collision>
  </link>
  <joint
    name="handle_3_joint"
    type="fixed">
    <origin
      xyz="1.95 0.01 0.00013752"
      rpy="0 0 0" />
    <parent
      link="stair_3_link" />
    <child
      link="handle_3_Link" />
    <axis
      xyz="0 0 0" />
  </joint>
  <gazebo reference="ground_link">
    <material>
      duck/red_brick
    </material>
  </gazebo>
  <gazebo reference="ground_in_Link">
    <material>
      duck/paint2
    </material>
  </gazebo>
  <gazebo reference="window_1_Link">
    <material>
      duck/vinyl
    </material>
  </gazebo>
  <gazebo reference="window_2_Link">
    <material>
      duck/vinyl
    </material>
  </gazebo>
  <gazebo reference="window_3_Link">
    <material>
      duck/vinyl
    </material>
  </gazebo>
  <gazebo reference="window_4_Link">
    <material>
      duck/vinyl
    </material>
  </gazebo>
  <gazebo reference="window_5_Link">
    <material>
      duck/vinyl
    </material>
  </gazebo>
  <gazebo reference="window_6_Link">
    <material>
      duck/vinyl
    </material>
  </gazebo>
  <gazebo reference="window_7_Link">
    <material>
      duck/vinyl
    </material>
  </gazebo>
  <gazebo reference="window_8_Link">
    <material>
      duck/vinyl
    </material>
  </gazebo>
  <gazebo reference="window_9_Link">
    <material>
      duck/vinyl
    </material>
  </gazebo>
  <gazebo reference="window_10_link">
    <material>
      duck/vinyl
    </material>
  </gazebo>
  <gazebo reference="window_11_Link">
    <material>
      duck/vinyl
    </material>
  </gazebo>
  <gazebo reference="window_12_Link">
    <material>
      duck/vinyl
    </material>
  </gazebo>
  <gazebo reference="window_13_Link">
    <material>
      duck/vinyl
    </material>
  </gazebo>
  <gazebo reference="window_14_Link">
    <material>
      duck/vinyl
    </material>
  </gazebo>
  <gazebo reference="window_15_Link">
    <material>
      duck/vinyl
    </material>
  </gazebo>
  <gazebo reference="window_16_Link">
    <material>
      duck/vinyl
    </material>
  </gazebo>
  <gazebo reference="indoor_fence_Link">
    <material>
      duck/hairline_metal
    </material>
  </gazebo>
  <gazebo reference="stair_1_link">
    <material>
      duck/granite
    </material>
  </gazebo>
  <gazebo reference="stair_2_Link">
    <material>
      duck/granite
    </material>
  </gazebo>
  <gazebo reference="stair_3_link">
    <material>
      duck/granite
    </material>
  </gazebo>
  <gazebo reference="handle_1_Link">
    <material>
      duck/hairline_metal
    </material>
  </gazebo>
  <gazebo reference="handle_2_Link">
    <material>
      duck/hairline_metal
    </material>
  </gazebo>
  <gazebo reference="handle_3_Link">
    <material>
      duck/hairline_metal
    </material>
  </gazebo>
  <gazebo reference="base_Link">
    <material>
      duck/white_brick
    </material>
  </gazebo>
  <gazebo reference="outdoor_left_wall">
    <material>
      duck/wall
    </material>
  </gazebo>
  <gazebo reference="outdoor_right_wall">
    <material>
      duck/wall
    </material>
  </gazebo>
  <gazebo reference="front_door_link">
    <material>
      duck/hairline_metal
    </material>
  </gazebo>
  <gazebo reference="side_door_link">
    <material>
      duck/hairline_metal
    </material>
  </gazebo>
  <gazebo reference="second_out_Link">
    <material>
      duck/red_brick
    </material>
  </gazebo>
  <gazebo reference="second_in_Link">
    <material>
      duck/paint2
    </material>
  </gazebo>
  <gazebo reference="open_window_Link">
    <material>
      duck/vinyl
    </material>
  </gazebo>
  <gazebo>
    <static>
      1
    </static>
  </gazebo>
  
</robot>
